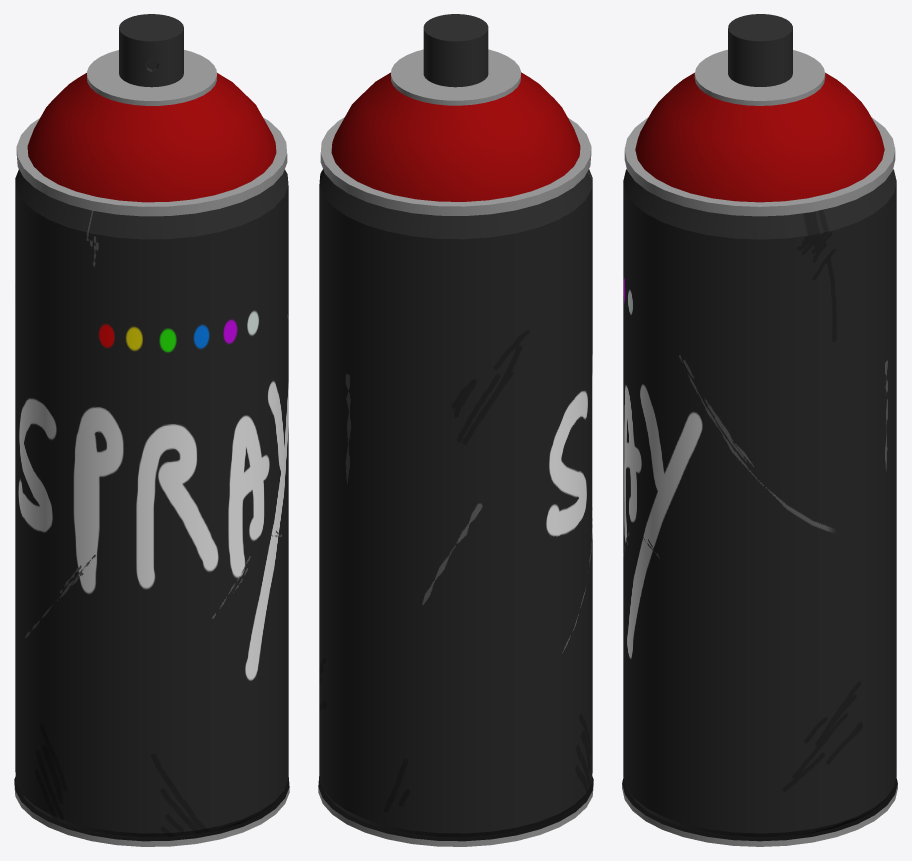
Rendered from Bombe_de_peinture.fbx.
3 views of the same model, side by side, from view 1: azimuth 30°, elevation 25°; view 2: azimuth 150°, elevation 25°; view 3: azimuth 270°, elevation 25° (orthographic).
Visible parts, largest first — view 1: Cylinder, Cylinder.001; view 2: Cylinder, Cylinder.001; view 3: Cylinder, Cylinder.001.
Boxes of the visible parts, bbox=[...] form: Cylinder: bbox=[14, 50, 289, 846]; Cylinder.001: bbox=[119, 14, 183, 87]; Cylinder: bbox=[318, 49, 593, 846]; Cylinder.001: bbox=[423, 14, 488, 87]; Cylinder: bbox=[622, 49, 897, 846]; Cylinder.001: bbox=[728, 14, 792, 86].
Size of the model in its own units: 146 by 443 by 146.
